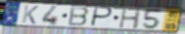4: (41, 5, 61, 27)
5: (141, 8, 166, 30)
B: (67, 6, 91, 27)
H: (118, 8, 144, 30)
K: (20, 4, 40, 25)
P: (89, 6, 114, 28)
